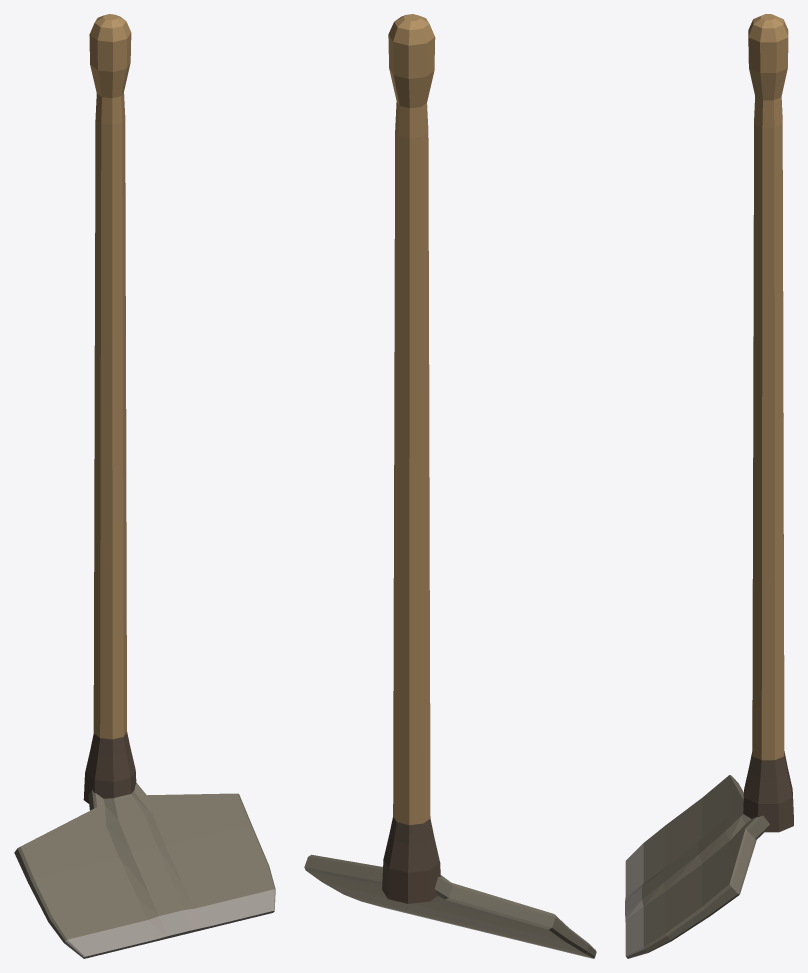
File: garden-hoe-3974ad.glb
3 renders of one model, left to right at view 1: azimuth 30°, elevation 25°; view 2: azimuth 150°, elevation 25°; view 3: azimuth 270°, elevation 25°, orthographic. The views are drawn at different scales.
Parts seen in each view (by area): view 1: hoe; view 2: hoe; view 3: hoe.
Part boxes in pixels (<box>): hoe: <box>14,14,275,958</box>; hoe: <box>304,14,596,958</box>; hoe: <box>625,14,793,958</box>.
Bounding box in the file's own units: 0.4 × 1.5 × 0.2565.
